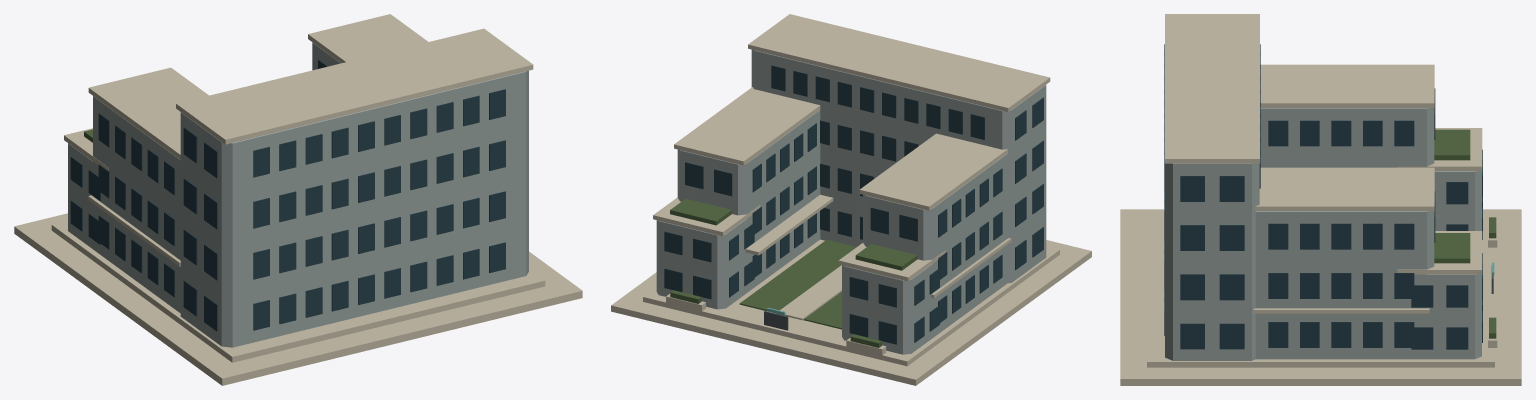
The model's file is residential.glb.
3 views of the same model, side by side, from view 1: azimuth 30°, elevation 25°; view 2: azimuth 150°, elevation 25°; view 3: azimuth 270°, elevation 25° (orthographic). The views are drawn at different scales.
Visible parts, largest first — view 1: courtyard-rear-wing, windows, roof-slabs, foundation, courtyard-side-wings, plinth, terraced-homes, balconies; view 2: roof-slabs, windows, courtyard-rear-wing, courtyard-side-wings, foundation, terraced-homes, plinth, courtyard-lawn, terrace-gardens, balconies, courtyard-path, planters (+1 smaller); view 3: roof-slabs, courtyard-side-wings, windows, foundation, courtyard-rear-wing, plinth, terraced-homes, terrace-gardens, balconies, planting.
Part boxes in pixels (x1,y1,x2,y2): courtyard-rear-wing: (180,70,528,347); windows: (70,59,505,331); roof-slabs: (64,14,533,170); foundation: (14,213,582,385); courtyard-side-wings: (93,42,340,313); plinth: (51,221,545,362); terraced-homes: (68,143,104,255); balconies: (88,195,180,266); roof-slabs: (653,14,1050,281); windows: (664,65,1043,344); courtyard-rear-wing: (751,49,1046,283); courtyard-side-wings: (677,110,1007,337); foundation: (611,240,1091,385); terraced-homes: (656,219,932,354); plinth: (643,239,1059,366); courtyard-lawn: (739,239,856,329); terrace-gardens: (670,198,917,270); balconies: (745,194,1011,298); courtyard-path: (777,265,841,320); planters: (666,294,886,355); roof-slabs: (1165,14,1482,274); courtyard-side-wings: (1255,108,1434,359); windows: (1164,44,1482,349); foundation: (1120,209,1521,385); courtyard-rear-wing: (1165,163,1259,360); plinth: (1147,215,1494,367); terraced-homes: (1404,171,1481,359); terrace-gardens: (1434,129,1470,263); balconies: (1253,308,1429,313); planting: (1489,217,1496,338).
Size of the model in its own units: 15.52 by 9.17 by 15.52.
